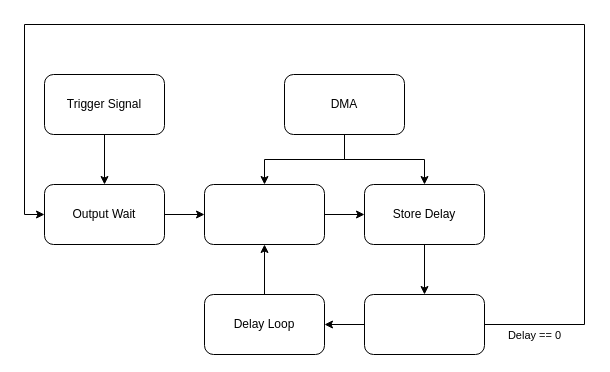
Image size: 610x372. Some labels were removed from this diagram. Here are the shapes that lost their labels. From the top down, the centre of each, then its label:
At (x=264, y=214): "Output Start".
At (x=424, y=324): "Delay Check".
